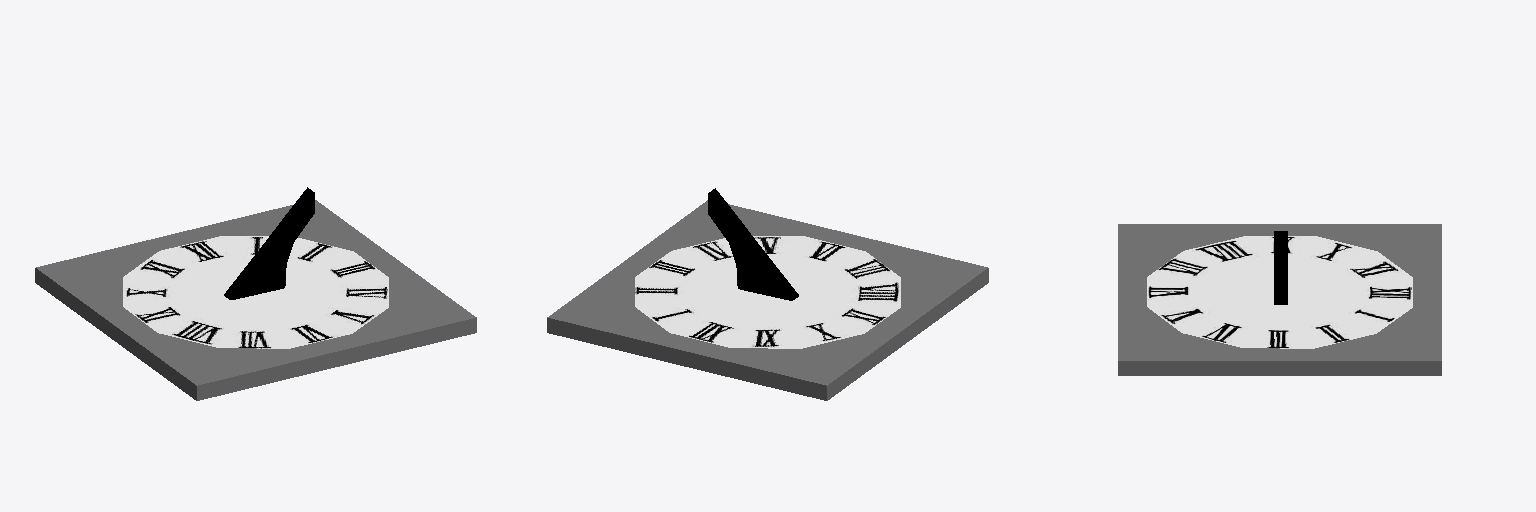
3 renders of one model, left to right at view 1: azimuth 30°, elevation 25°; view 2: azimuth 150°, elevation 25°; view 3: azimuth 270°, elevation 25°, orthographic.
Parts seen in each view (by area): view 1: Sundial pCube1, pCylinder1 Sundial, Sundial polySurface1; view 2: Sundial pCube1, pCylinder1 Sundial, Sundial polySurface1; view 3: Sundial pCube1, pCylinder1 Sundial, Sundial polySurface1.
Boxes of the visible parts, <box> form: Sundial pCube1: <box>35,200,476,400</box>; pCylinder1 Sundial: <box>123,236,388,348</box>; Sundial polySurface1: <box>224,187,314,299</box>; Sundial pCube1: <box>547,200,988,400</box>; pCylinder1 Sundial: <box>635,236,900,348</box>; Sundial polySurface1: <box>708,188,798,300</box>; Sundial pCube1: <box>1118,224,1441,375</box>; pCylinder1 Sundial: <box>1147,236,1412,348</box>; Sundial polySurface1: <box>1274,231,1287,304</box>.
Size of the model in its own units: 13.21 by 4.7 by 13.21.
Materials: 3 (1 with a texture image).